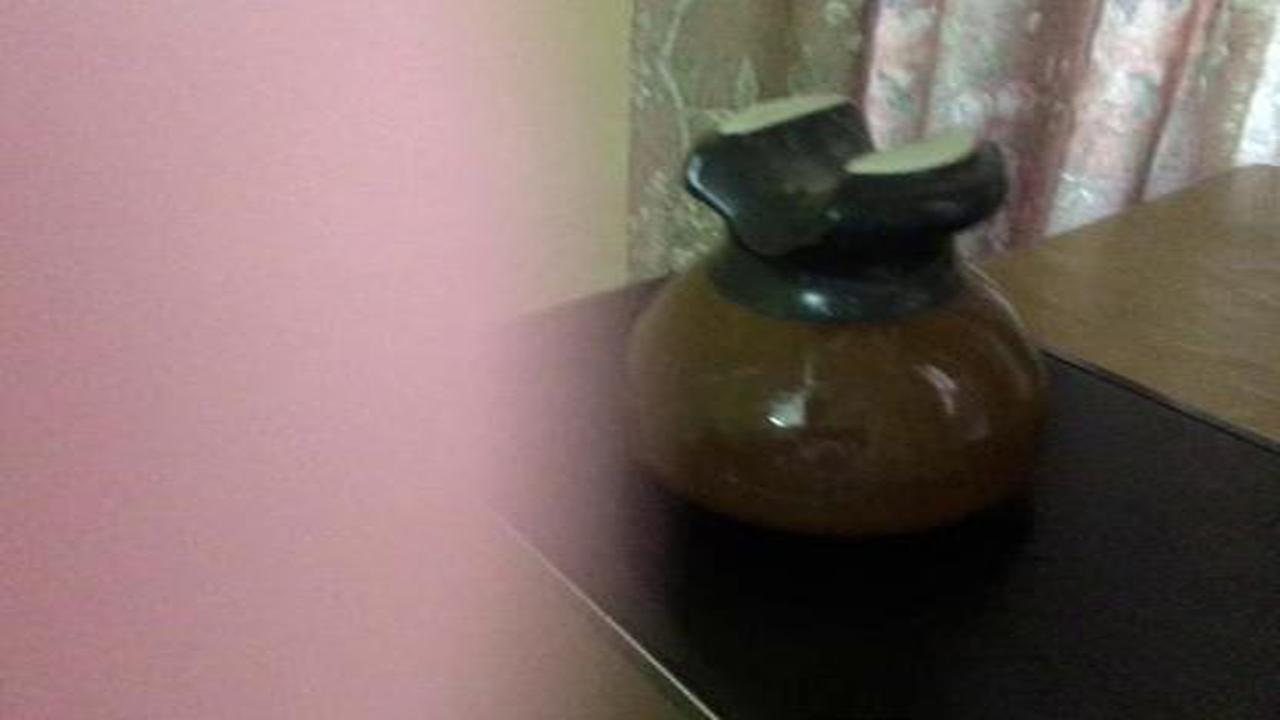insulator_pin: (607, 77, 1068, 547)
